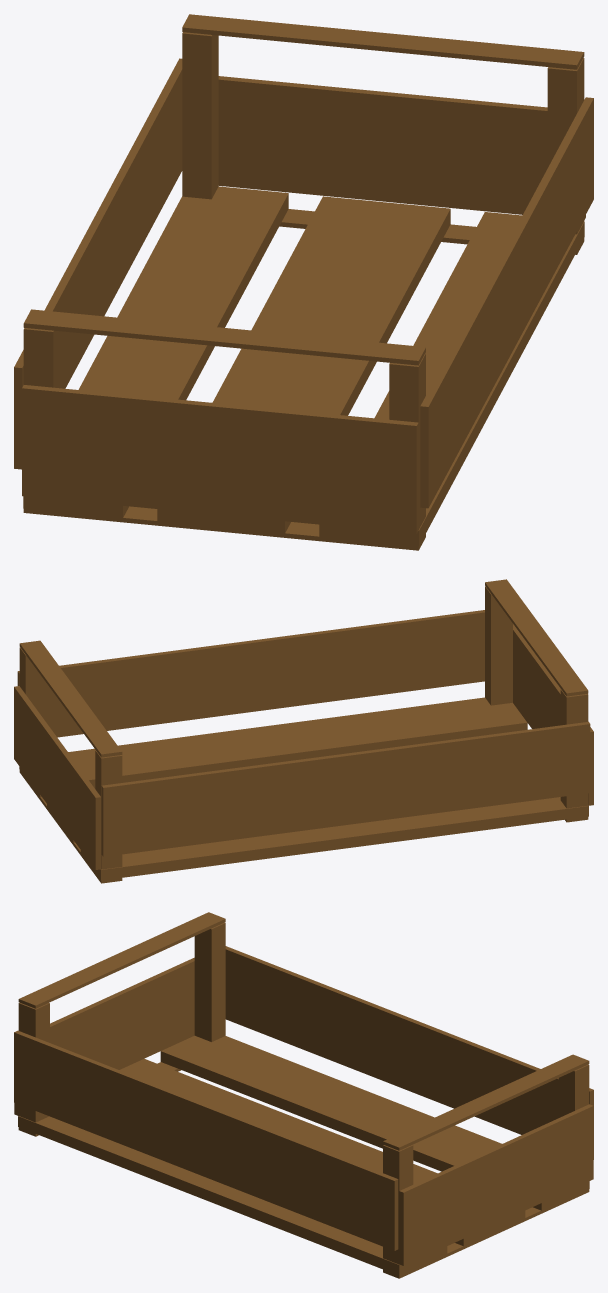
Rendered from kasa.fbx.
3 views of the same model, one above another, from view 1: azimuth 30°, elevation 25°; view 2: azimuth 150°, elevation 25°; view 3: azimuth 270°, elevation 25° (orthographic). The views are drawn at different scales.
Parts seen in each view (by area): view 1: kasa; view 2: kasa; view 3: kasa.
Boxes of the visible parts, x1,y1,x2,y2 form: kasa: [14, 14, 593, 550]; kasa: [14, 579, 593, 883]; kasa: [14, 912, 593, 1278].
Size of the model in its own units: 24.18 by 6.17 by 24.71.
